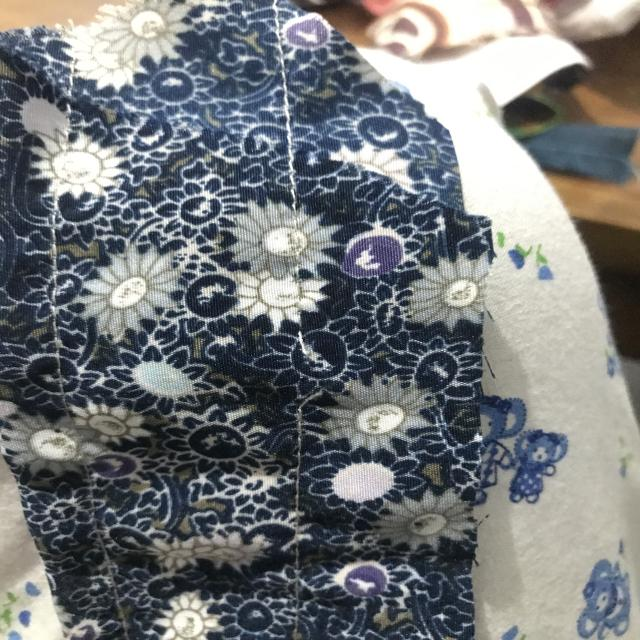broken: (278, 325, 328, 416)
